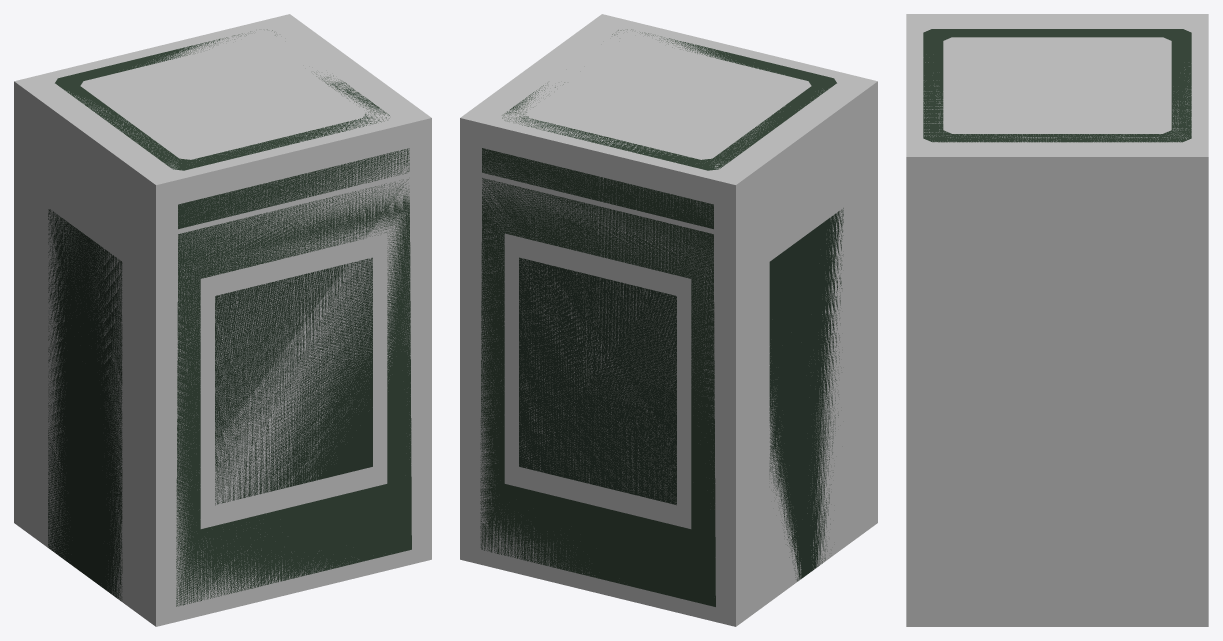
File: SM_GarbageCan_02.fbx
The picture shows the model from 3 angles, left to right: view 1: azimuth 30°, elevation 25°; view 2: azimuth 150°, elevation 25°; view 3: azimuth 270°, elevation 25°; orthographic projection. The views are drawn at different scales.
Parts seen in each view (by area): view 1: SM_GarbageCan_02_ConvexHulls, SM_GarbageCan_02; view 2: SM_GarbageCan_02_ConvexHulls, SM_GarbageCan_02; view 3: SM_GarbageCan_02_ConvexHulls, SM_GarbageCan_02.
Boxes of the visible parts, left/top/right/bottom form: SM_GarbageCan_02_ConvexHulls: left=14, top=14, right=431, bottom=626; SM_GarbageCan_02: left=48, top=29, right=411, bottom=606; SM_GarbageCan_02_ConvexHulls: left=460, top=14, right=877, bottom=626; SM_GarbageCan_02: left=480, top=29, right=843, bottom=606; SM_GarbageCan_02_ConvexHulls: left=906, top=14, right=1208, bottom=626; SM_GarbageCan_02: left=923, top=29, right=1191, bottom=142.
Bounding box in the file's own units: 78.12 × 69.67 × 120.
Materials: 2 (1 with a texture image).
